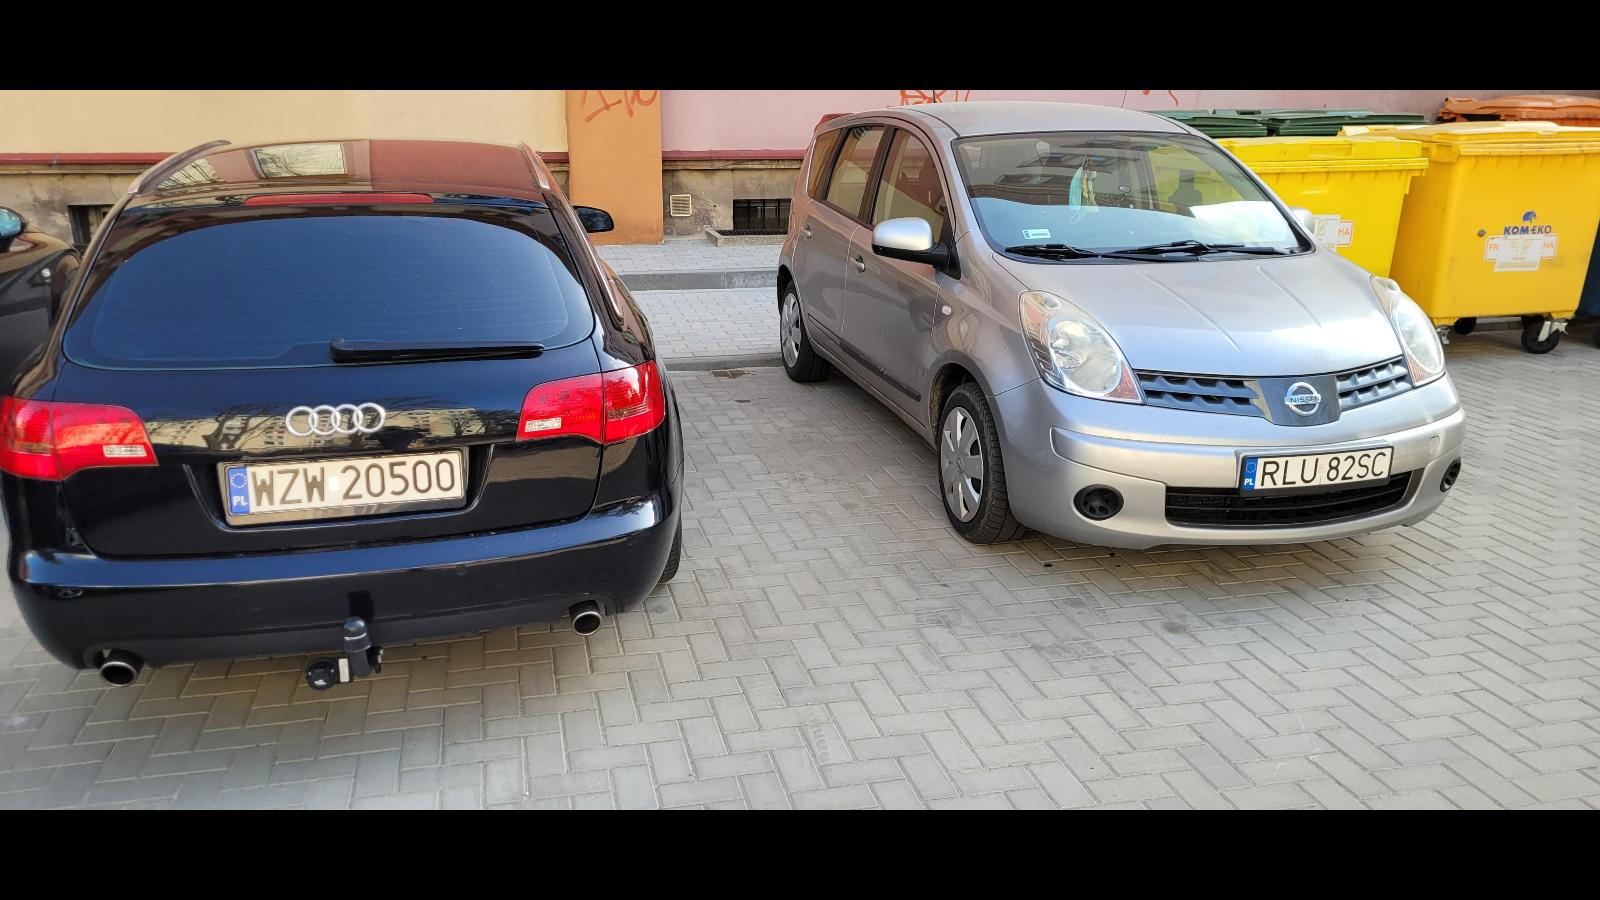plates: (222, 448, 468, 526), (1239, 447, 1395, 498)
